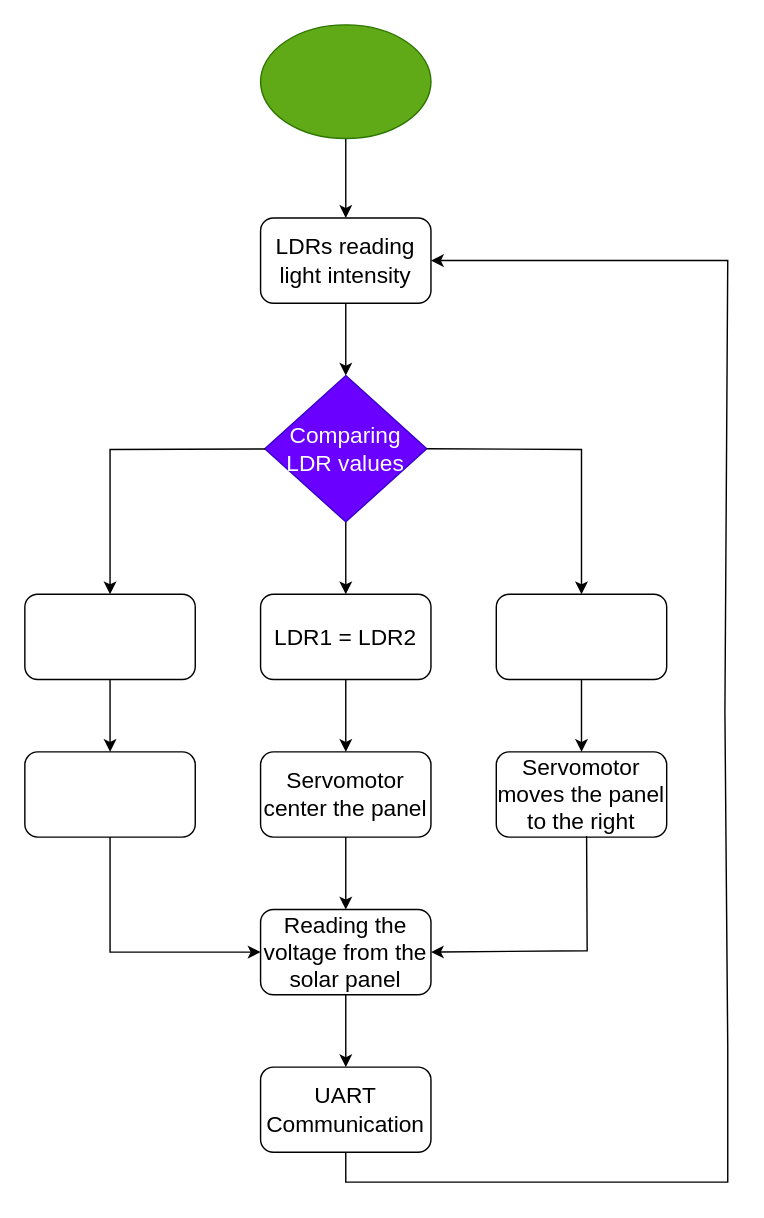
Some shapes in this 764 by 1218 pixel diagram are drawn without their labels. Here are the shapes that lost their labels. From the top down, the centre of each, then its label:
the point at 345,80: START
the point at 109,636: LDR1 > LDR2
the point at 581,636: LDR1 < LDR2
the point at 109,793: Servomotor moves the panel to the left
